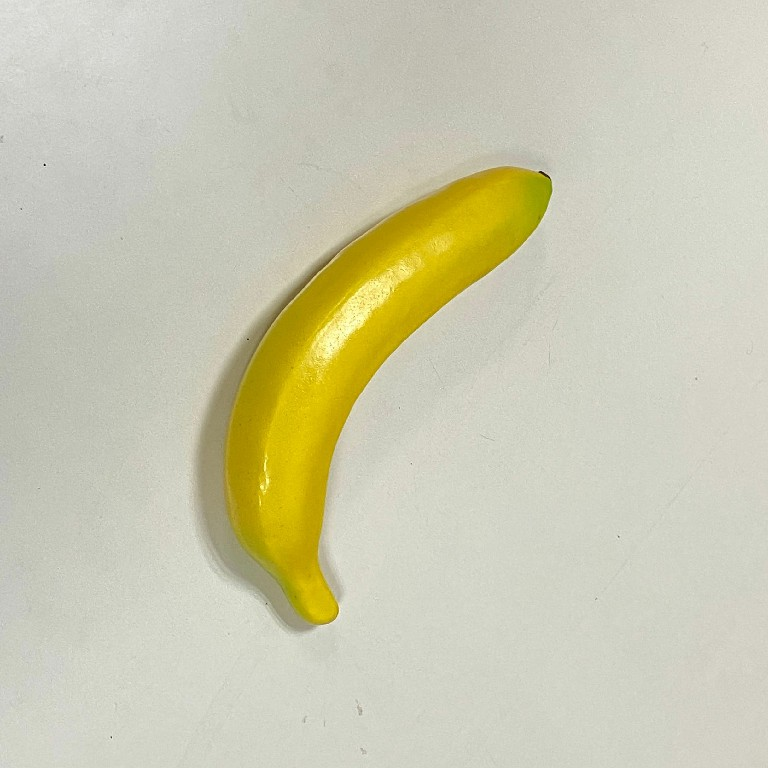fruit_banana: (214, 164, 559, 628)
